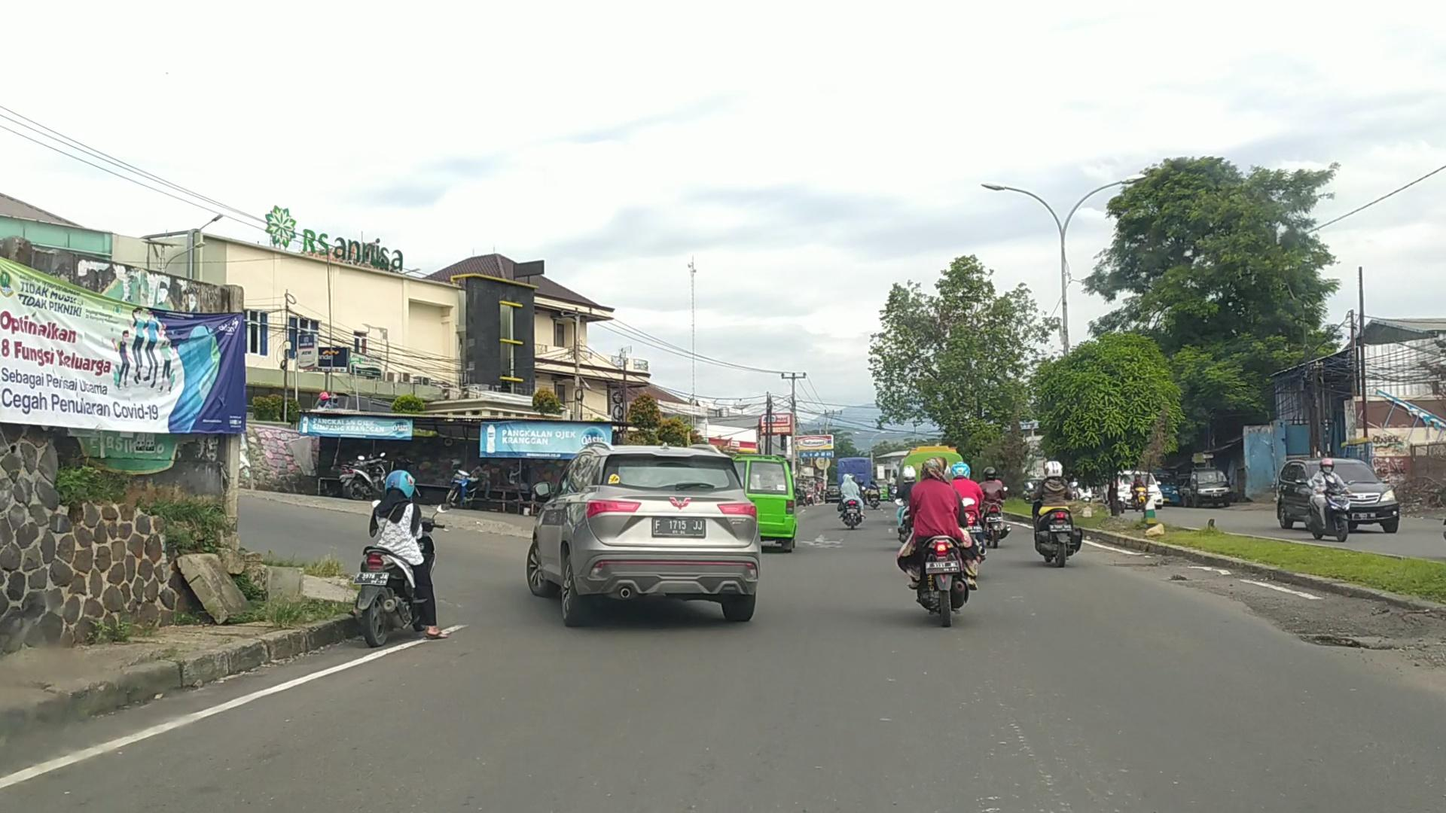pothole: (1299, 633, 1373, 650), (1167, 573, 1191, 582)
